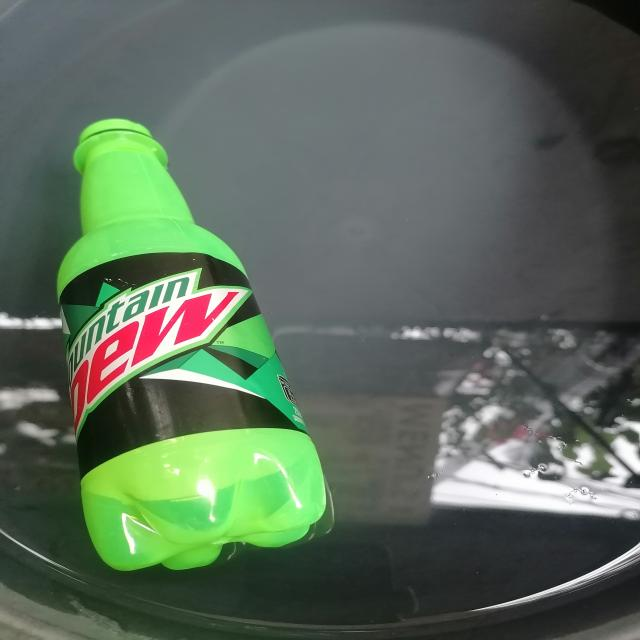Plastic Bottle: (57, 119, 334, 570)
